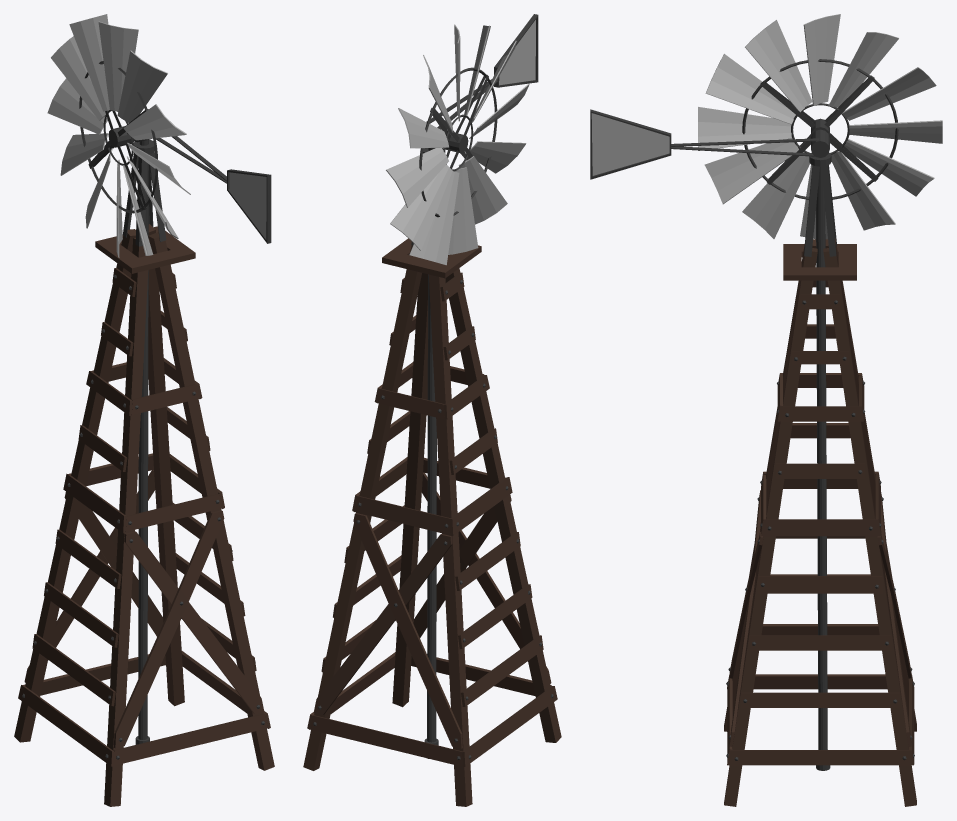
Rendered from WindMill_ForMarmoset.fbx.
3 views of the same model, side by side, from view 1: azimuth 30°, elevation 25°; view 2: azimuth 150°, elevation 25°; view 3: azimuth 270°, elevation 25° (orthographic).
Parts seen in each view (by area): view 1: SM_DariaPR_WindMill.Wood, SM_DariaPR_WindMill.Chrome, SM_DariaPR_WindMill.Metal; view 2: SM_DariaPR_WindMill.Wood, SM_DariaPR_WindMill.Chrome, SM_DariaPR_WindMill.Metal; view 3: SM_DariaPR_WindMill.Wood, SM_DariaPR_WindMill.Chrome, SM_DariaPR_WindMill.Metal.
Part boxes in pixels (<box>): SM_DariaPR_WindMill.Wood: <box>14,224,274,806</box>; SM_DariaPR_WindMill.Chrome: <box>47,14,266,257</box>; SM_DariaPR_WindMill.Metal: <box>22,61,271,759</box>; SM_DariaPR_WindMill.Wood: <box>303,238,561,806</box>; SM_DariaPR_WindMill.Chrome: <box>386,20,535,265</box>; SM_DariaPR_WindMill.Metal: <box>313,14,553,759</box>; SM_DariaPR_WindMill.Wood: <box>724,238,916,806</box>; SM_DariaPR_WindMill.Chrome: <box>591,14,942,239</box>; SM_DariaPR_WindMill.Metal: <box>590,59,914,770</box>.
Size of the model in its own units: 249 by 1060 by 460.
